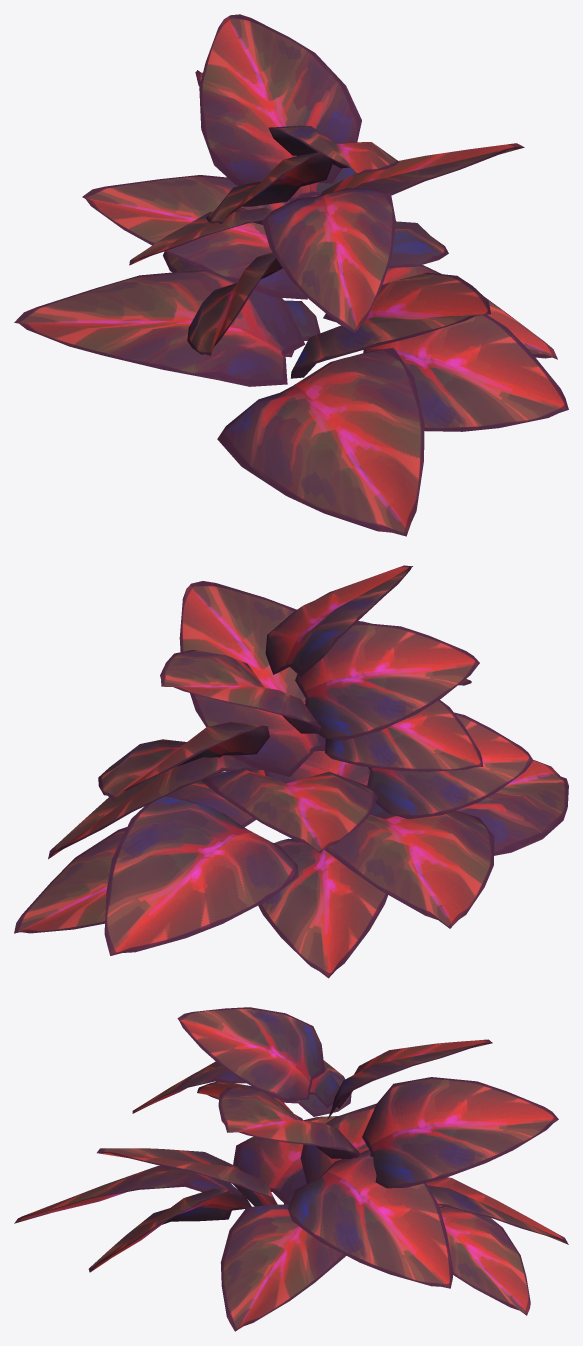
File: mesh_iresine.fbx
The picture shows the model from 3 angles, top to bottom: view 1: azimuth 30°, elevation 25°; view 2: azimuth 150°, elevation 25°; view 3: azimuth 270°, elevation 25°; orthographic projection. The views are drawn at different scales.
Parts seen in each view (by area): view 1: iresine; view 2: iresine; view 3: iresine.
Part boxes in pixels (bbox=[...]): iresine: bbox=[14, 14, 568, 536]; iresine: bbox=[14, 565, 568, 978]; iresine: bbox=[14, 1007, 568, 1331].
Bounding box in the file's own units: 0.3977 × 0.2534 × 0.5457.
